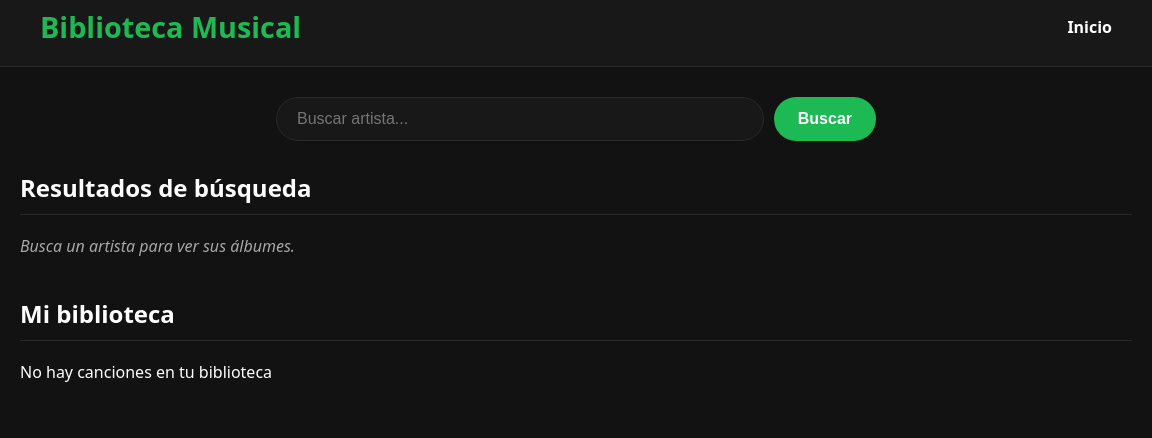
Test case: App › muestra el error si la petición falla
Type "Queen" into the field with placeholder "Buscar artista..." at (520, 119), box [276,97,764,141]
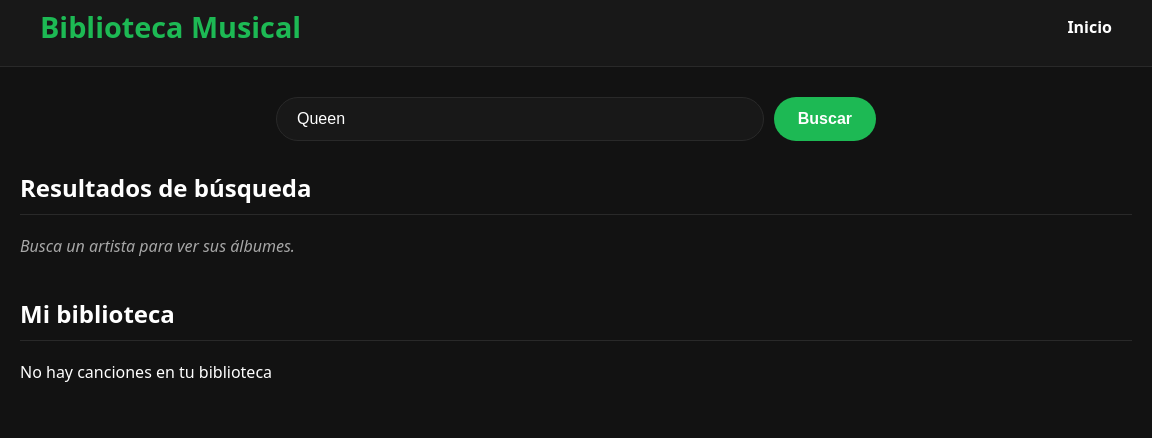
Click the button "Buscar" at (825, 119), box [774,97,876,141]
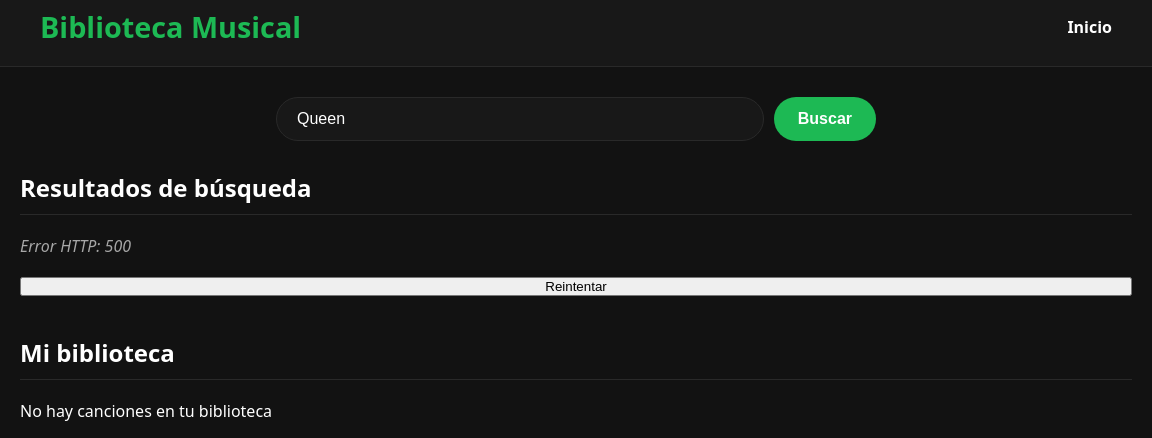
expect the text "Error HTTP: 500" is shown: met, box [20,235,131,257]
